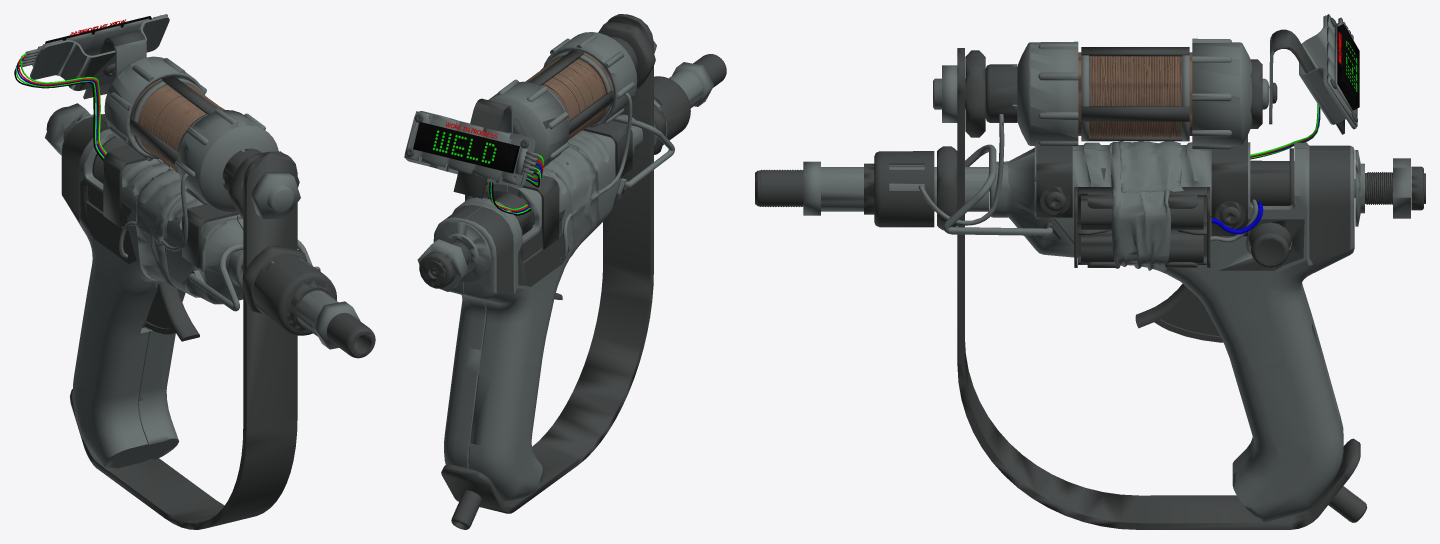
File: toolgun.fbx
3 views of the same model, side by side, from view 1: azimuth 30°, elevation 25°; view 2: azimuth 150°, elevation 25°; view 3: azimuth 270°, elevation 25° (orthographic). The views are drawn at different scales.
Visible parts, largest first — view 1: HL2DM_toolgun_reference; view 2: HL2DM_toolgun_reference; view 3: HL2DM_toolgun_reference.
Boxes of the visible parts, box(x1,y1,x2,y2) form: HL2DM_toolgun_reference: box(14, 14, 375, 529); HL2DM_toolgun_reference: box(404, 14, 726, 529); HL2DM_toolgun_reference: box(755, 14, 1425, 529).
Bounding box in the file's own units: 319 × 903 × 1137.
Materials: 7 (7 with a texture image).
